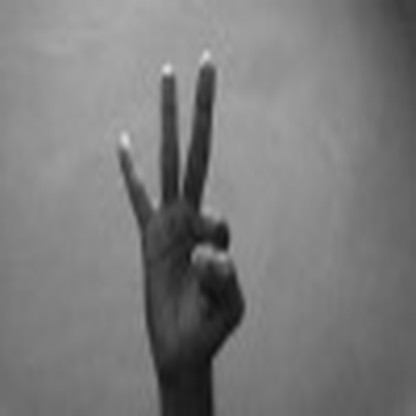f: (112, 50, 248, 341)
